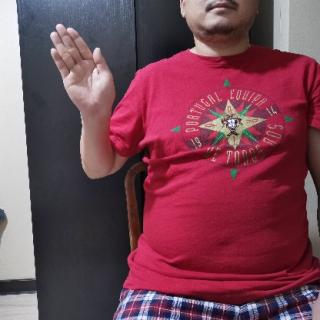SEEN: (44, 21, 118, 122)
